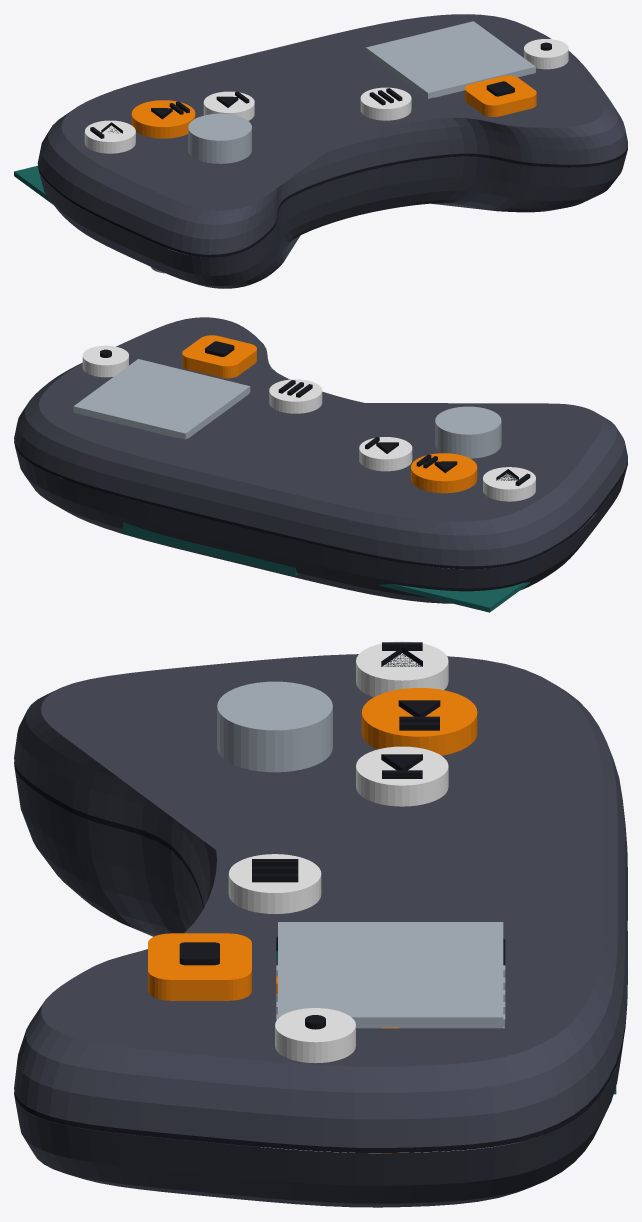
File: orbit-controller.glb
3 renders of one model, top to bottom at view 1: azimuth 30°, elevation 25°; view 2: azimuth 150°, elevation 25°; view 3: azimuth 270°, elevation 25°, orthographic. The views are drawn at different scales.
Visible parts, largest first — view 1: Calotta superiore con sede della piastra, Guscio inferiore a due impugnature, 24 Piastra di contatto, 15 Encoder volume, Giunzione gusci, 13 Arresta, 10 Ascolta pausa, 09 Precedente, 12 Descrivi, 14 Richiesta termica, 11 Successivo, 16 Supporto logica; view 2: Calotta superiore con sede della piastra, Guscio inferiore a due impugnature, 24 Piastra di contatto, 15 Encoder volume, 13 Arresta, Giunzione gusci, 10 Ascolta pausa, 16 Supporto logica, 21 Driver TEC riserva, 09 Precedente, 11 Successivo, 12 Descrivi (+1 smaller); view 3: Calotta superiore con sede della piastra, Guscio inferiore a due impugnature, 24 Piastra di contatto, 15 Encoder volume, 13 Arresta, 10 Ascolta pausa, Giunzione gusci, 11 Successivo, 12 Descrivi, 09 Precedente, 14 Richiesta termica, Simbolo Stop.
Boxes of the visible parts, x1,y1,x2,y2 form: Calotta superiore con sede della piastra: (37,14,627,254); Guscio inferiore a due impugnature: (37,147,627,288); 24 Piastra di contatto: (365,21,535,98); 15 Encoder volume: (188,113,251,163); Giunzione gusci: (38,148,627,257); 13 Arresta: (465,75,536,116); 10 Ascolta pausa: (131,100,195,138); 09 Precedente: (84,120,135,153); 12 Descrivi: (360,87,411,120); 14 Richiesta termica: (524,39,568,69); 11 Successivo: (203,91,254,120); 16 Supporto logica: (14,166,117,226); Calotta superiore con sede della piastra: (14,317,627,566); Guscio inferiore a due impugnature: (14,412,627,603); 24 Piastra di contatto: (73,359,250,439); 15 Encoder volume: (435,406,501,458); 13 Arresta: (182,335,256,378); Giunzione gusci: (14,441,627,569); 10 Ascolta pausa: (411,453,477,493); 16 Supporto logica: (351,545,558,612); 21 Driver TEC riserva: (123,522,297,576); 09 Precedente: (483,467,535,501); 11 Successivo: (359,437,412,471); 12 Descrivi: (269,379,322,413); Calotta superiore con sede della piastra: (14,654,627,1147); Guscio inferiore a due impugnature: (14,762,627,1207); 24 Piastra di contatto: (278,922,503,1028); 15 Encoder volume: (217,681,332,772); 13 Arresta: (148,933,251,1000); 10 Ascolta pausa: (361,688,477,755); Giunzione gusci: (14,762,626,1152); 11 Successivo: (356,746,448,806); 12 Descrivi: (228,854,321,913); 09 Precedente: (356,641,448,697); 14 Richiesta termica: (275,1008,355,1063); Simbolo Stop: (179,942,219,965).
Size of the model in its own units: 0.184 by 0.041 by 0.1062.
